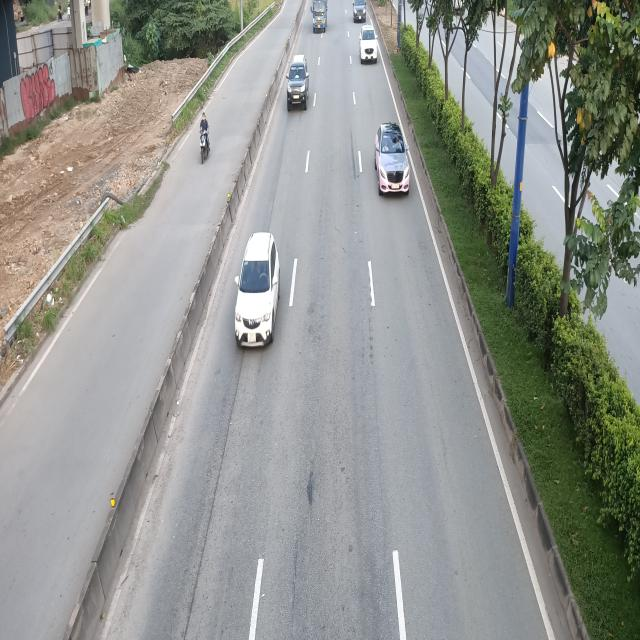car: (237, 232, 282, 348), (372, 121, 409, 195), (286, 54, 309, 110), (358, 25, 377, 64)
